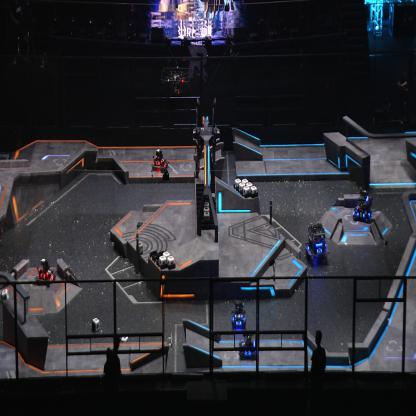car: (304, 222, 329, 264), (353, 190, 373, 223), (238, 330, 258, 362), (36, 257, 56, 287), (230, 299, 247, 329), (152, 148, 169, 174)
